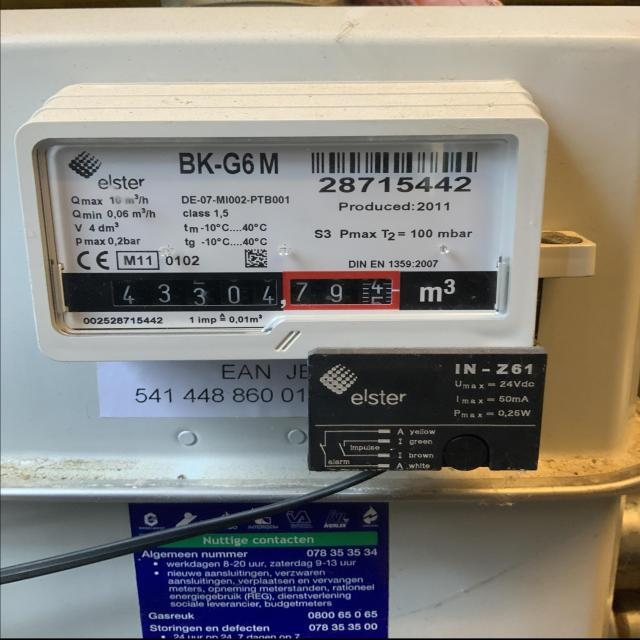gaz_meter: (27, 124, 535, 351)
indication: (64, 271, 496, 313)
